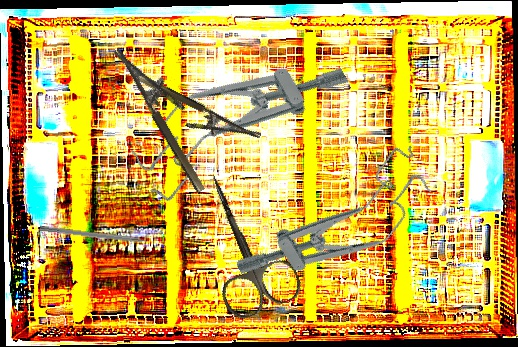Iris Scissors: (178, 159, 306, 324)
Needle Holder: (113, 34, 225, 195), (125, 70, 262, 159)
Pusher: (39, 225, 164, 248)
Speculum: (118, 23, 358, 208), (226, 140, 447, 314)
